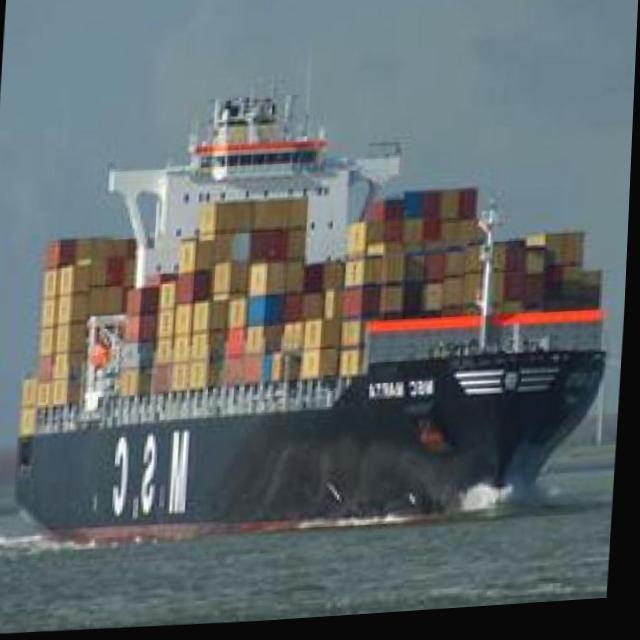ship2: (17, 98, 611, 549)
